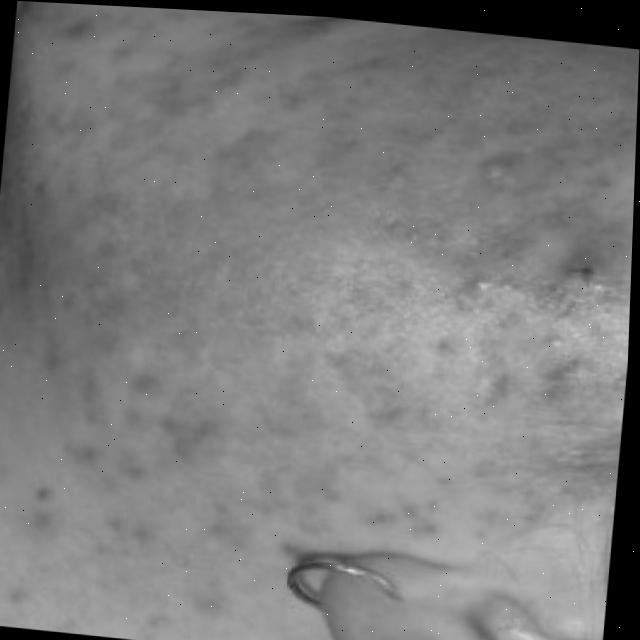Acne: (110, 140, 635, 512)
